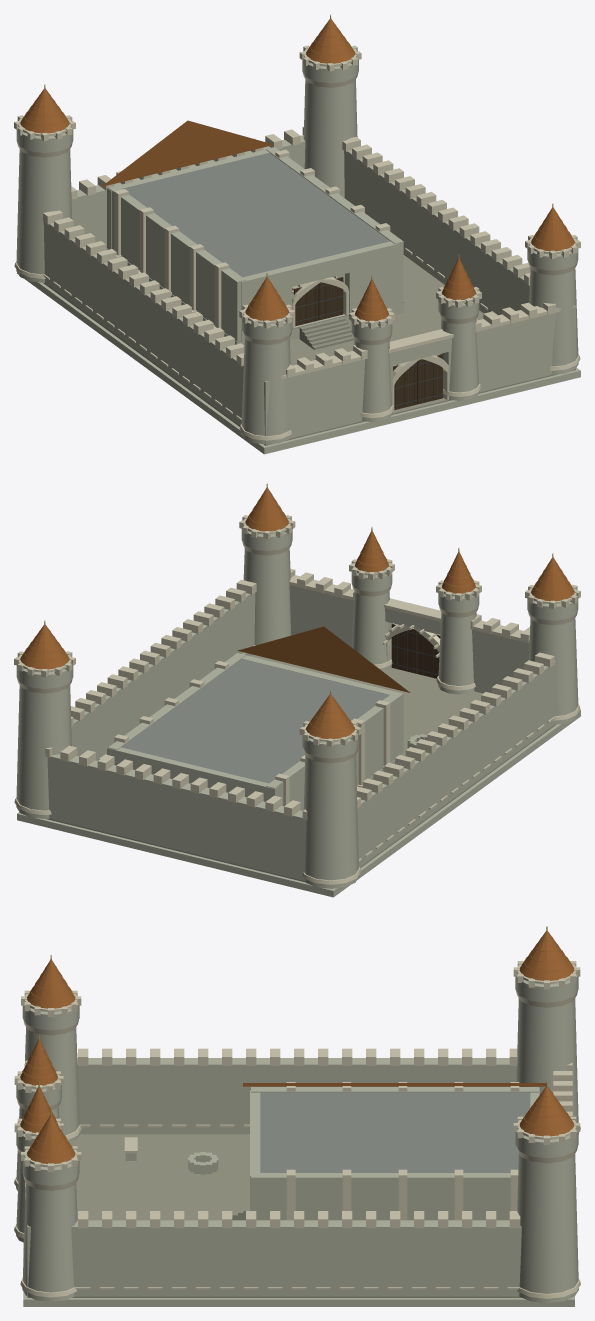
Rendered from last-light.glb.
3 renders of one model, top to bottom at view 1: azimuth 30°, elevation 25°; view 2: azimuth 150°, elevation 25°; view 3: azimuth 270°, elevation 25°, orthographic. The views are drawn at different scales.
Parts seen in each view (by area): view 1: exterior_stone, exterior_trim, interior_ceiling, exterior_roof, exterior_floor, gate-right, gate-left, hall-right, hall-left; view 2: exterior_stone, exterior_trim, interior_ceiling, exterior_roof, exterior_floor, gate-right, gate-left; view 3: exterior_stone, interior_ceiling, exterior_trim, exterior_floor, exterior_roof.
Boxes of the visible parts, x1,y1,x2,y2 form: exterior_stone: [16, 59, 580, 454]; exterior_trim: [14, 45, 580, 440]; interior_ceiling: [122, 153, 390, 277]; exterior_roof: [20, 18, 574, 321]; exterior_floor: [43, 255, 575, 445]; gate-right: [417, 354, 443, 404]; gate-left: [393, 362, 417, 409]; hall-right: [318, 277, 343, 320]; hall-left: [293, 284, 318, 325]; exterior_stone: [16, 529, 580, 897]; exterior_trim: [14, 515, 580, 884]; interior_ceiling: [121, 659, 389, 783]; exterior_roof: [20, 487, 574, 738]; exterior_floor: [46, 654, 556, 882]; gate-right: [391, 624, 417, 673]; gate-left: [417, 631, 440, 678]; exterior_stone: [16, 975, 578, 1306]; interior_ceiling: [260, 1092, 530, 1172]; exterior_trim: [14, 961, 580, 1298]; exterior_floor: [27, 1134, 521, 1297]; exterior_roof: [20, 930, 574, 1163].
Size of the model in its own units: 54.5 by 29.92 by 70.9.
